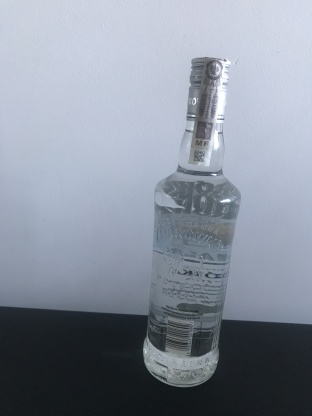nakretka: (184, 51, 232, 126)
